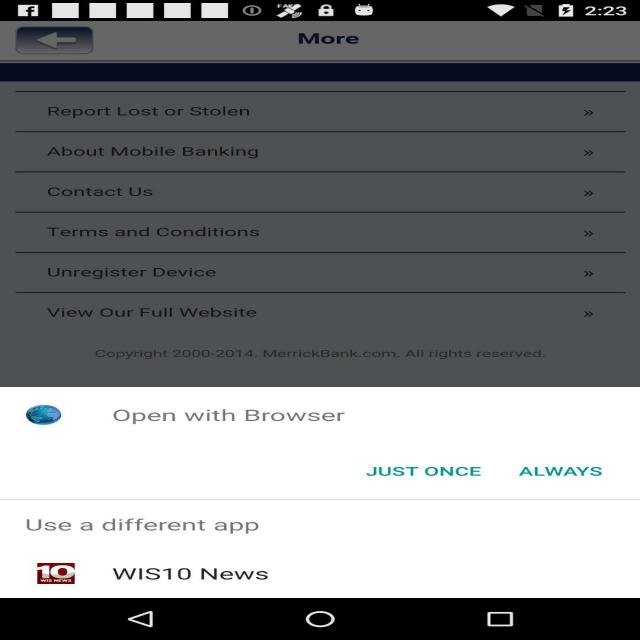button: (344, 458, 640, 500), (50, 548, 303, 593)
text: (6, 77, 640, 444)
